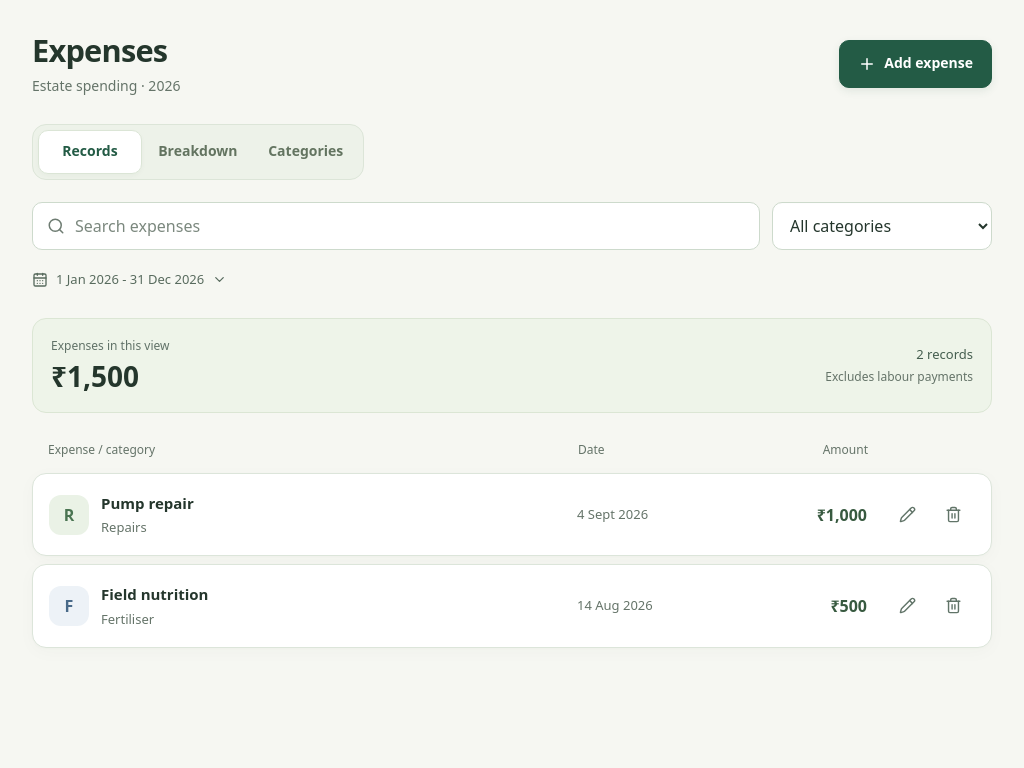
Test: expense workspace › preserves the archived category when editing a historical expense
Click the button named "Edit Field nutrition" at (907, 606), box left=885, top=584, right=929, bottom=628
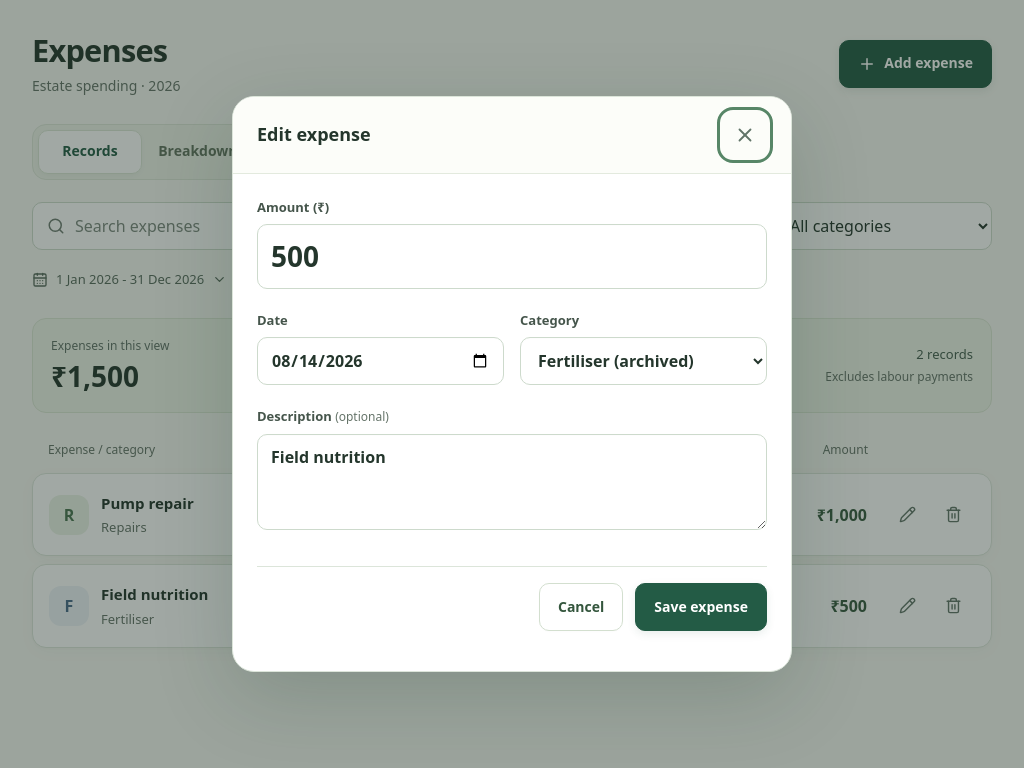
expect the dropdown labelled "Category" shows "Fertiliser (archived)": met, box left=520, top=337, right=767, bottom=385
Click the button "Save expense" at (701, 607), box left=635, top=583, right=767, bottom=631
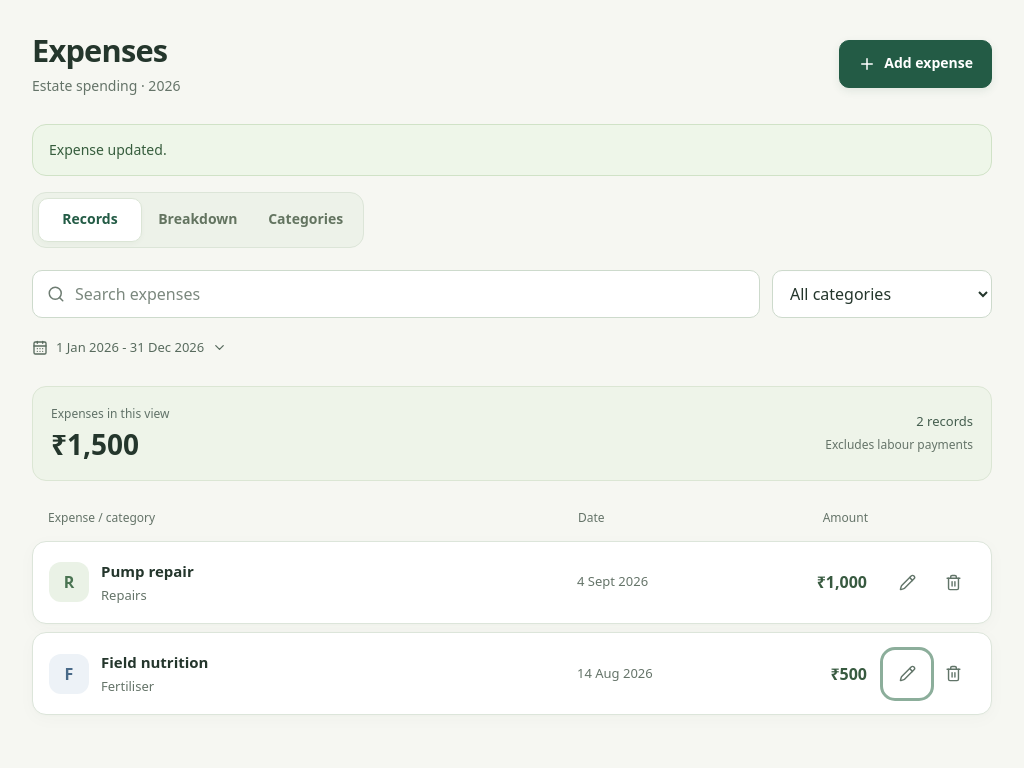
expect the dialog is gone: met
